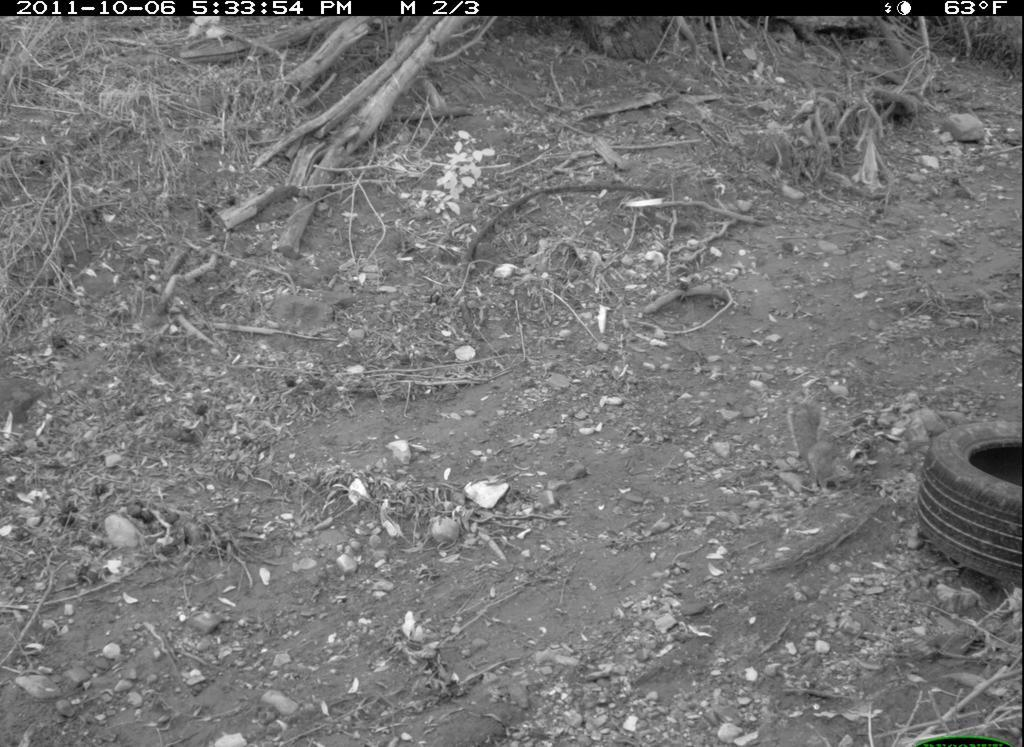squirrel: (780, 401, 863, 510)
